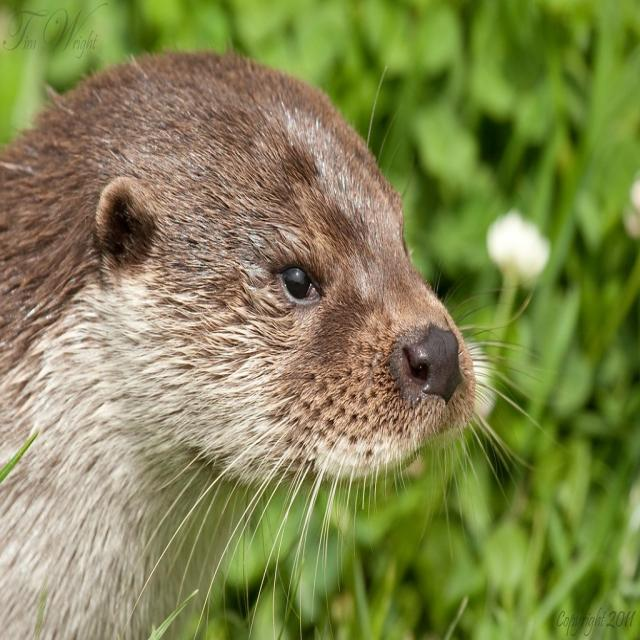otter: (1, 48, 477, 640)
